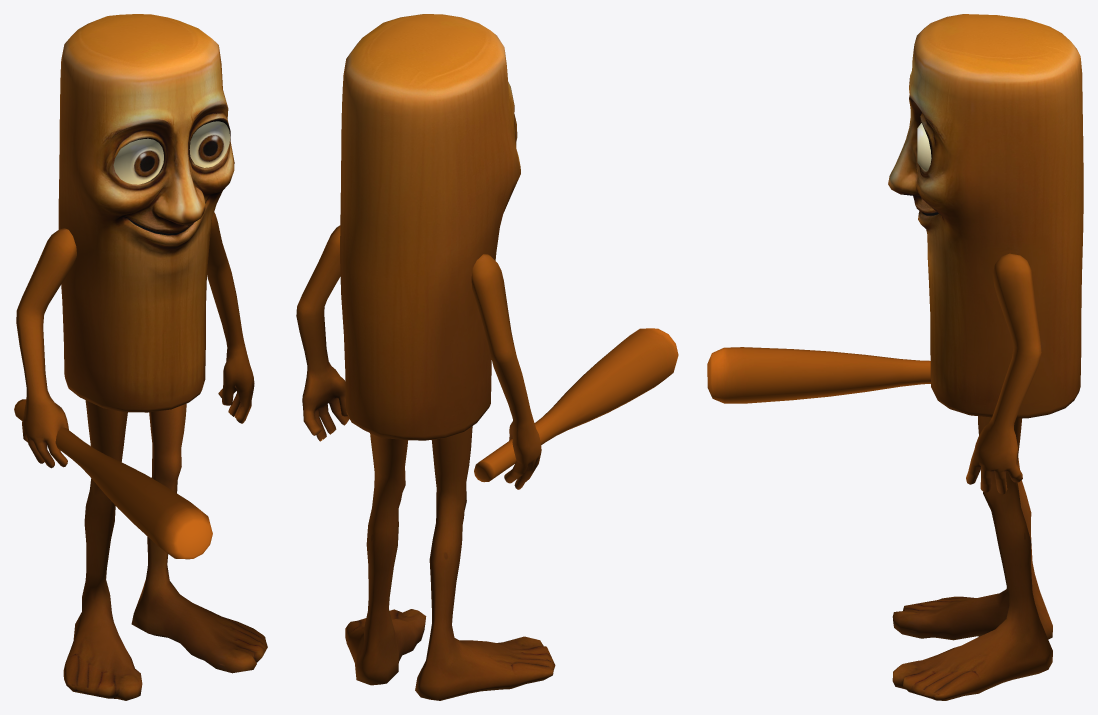
File: tung__sahur__game_3d_model_no_ai__free__download.glb
The picture shows the model from 3 angles, left to right: view 1: azimuth 30°, elevation 25°; view 2: azimuth 150°, elevation 25°; view 3: azimuth 270°, elevation 25°; orthographic projection. The views are drawn at different scales.
Parts seen in each view (by area): view 1: Foot_LP_Plane_001_Sahur_0; view 2: Foot_LP_Plane_001_Sahur_0; view 3: Foot_LP_Plane_001_Sahur_0.
Boxes of the visible parts, x1=… form: Foot_LP_Plane_001_Sahur_0: x1=14, y1=14, x2=267, y2=700; Foot_LP_Plane_001_Sahur_0: x1=296, y1=14, x2=678, y2=700; Foot_LP_Plane_001_Sahur_0: x1=707, y1=14, x2=1083, y2=700.
Size of the model in its own units: 0.00675 by 0.0181 by 0.00978.
Materials: 1 (1 with a texture image).
